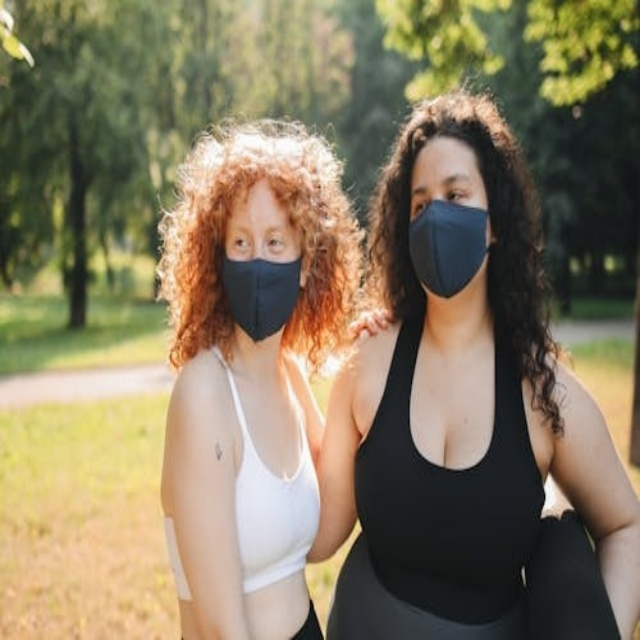Mascara: (409, 200, 491, 297), (221, 251, 302, 342)
Sin_gafas: (410, 163, 475, 215), (227, 215, 289, 258)
